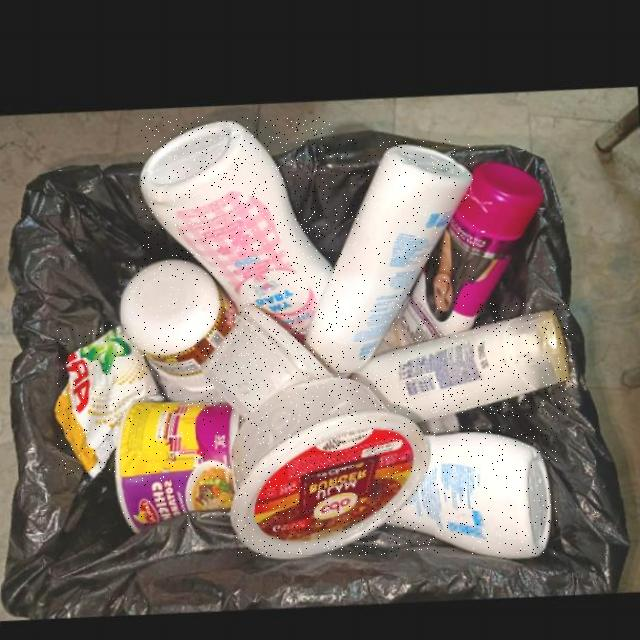plastic: (141, 117, 336, 340), (306, 139, 474, 373), (234, 374, 435, 556), (402, 157, 546, 337), (349, 303, 574, 417), (390, 426, 557, 554), (122, 257, 237, 401), (119, 397, 243, 530), (204, 302, 339, 417)
wrapper: (58, 324, 167, 478)
